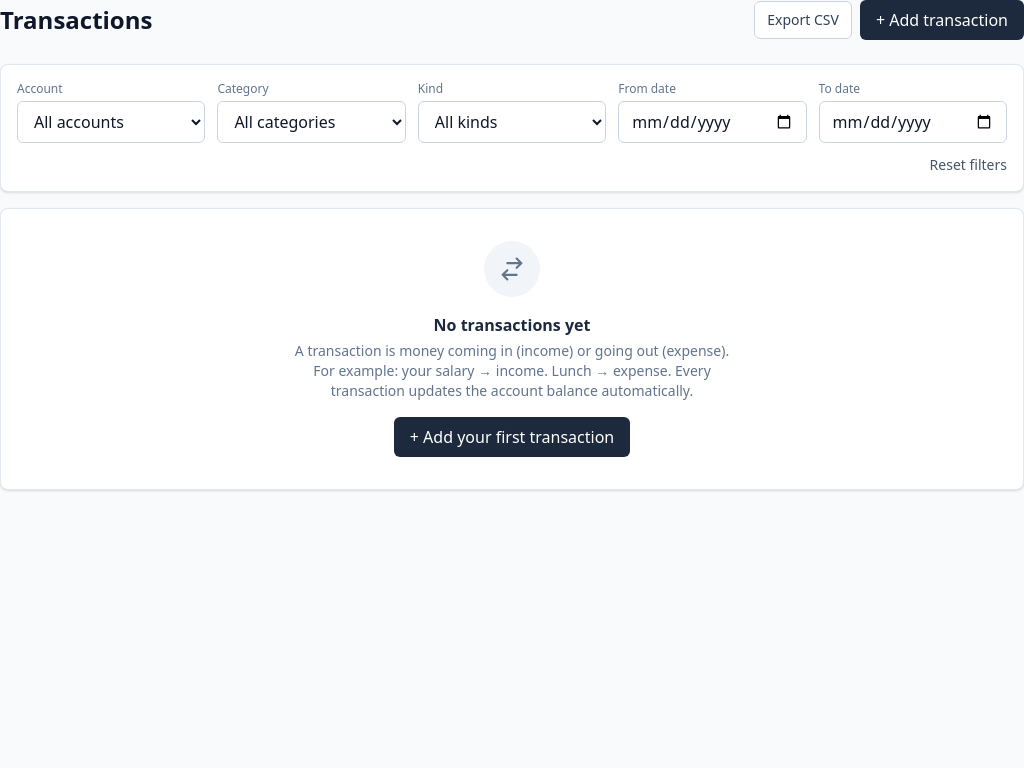
it: TransactionsPage › opens the create form and submits a new expense
This screenshot has width=1024, height=768.
Expected: the heading "No transactions yet" is shown, [434,314,590,336]
Click the button "+ Add transaction" at coordinates (942, 20), box [860,0,1023,40]
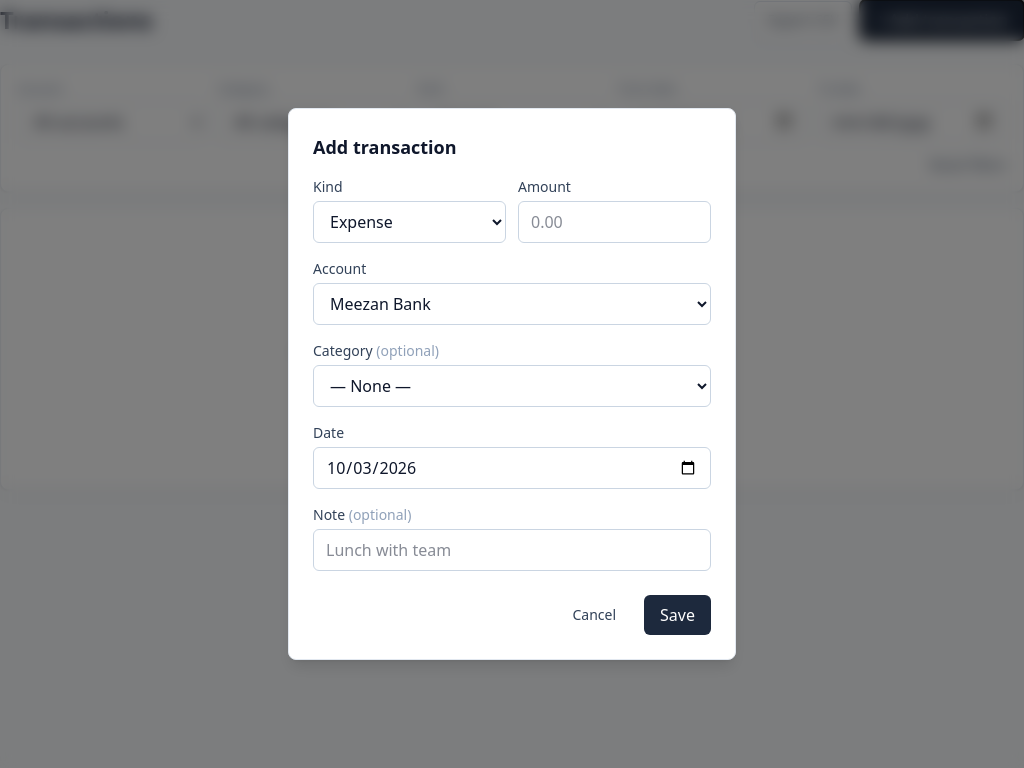
Now the number field labelled "Amount" is shown
Type "250" into the number field labelled "Amount" at coordinates (614, 222), box [518,201,711,243]
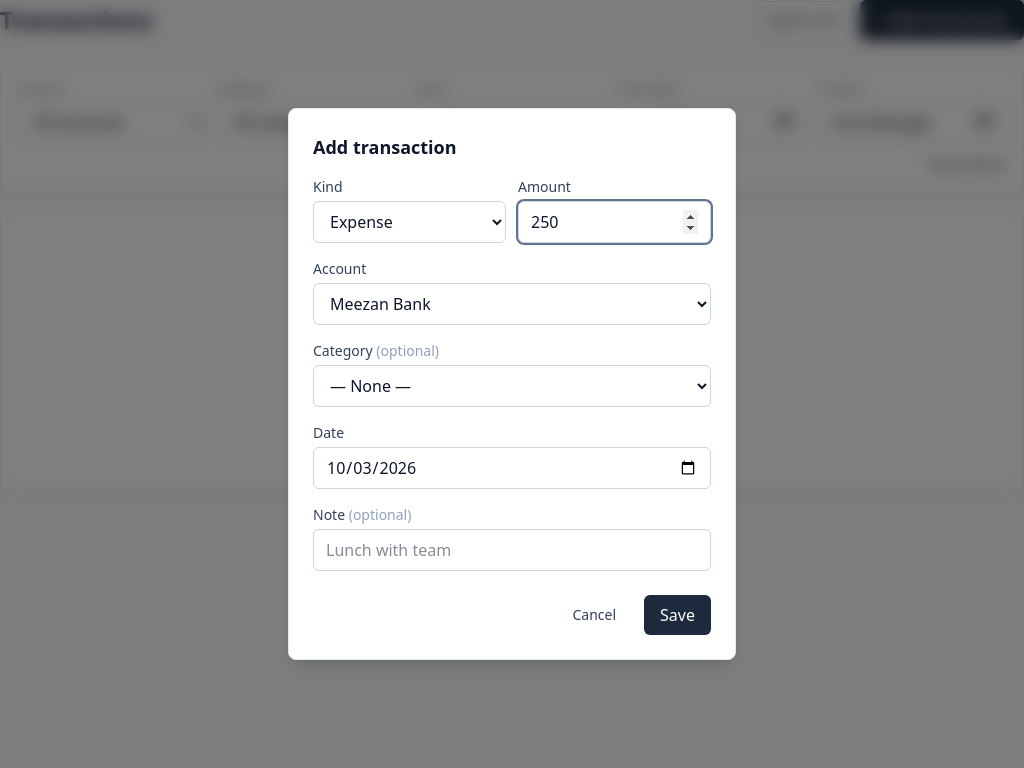
Type "Snack" into the field labelled "Note (optional)" at coordinates (512, 550), box [313,529,711,571]
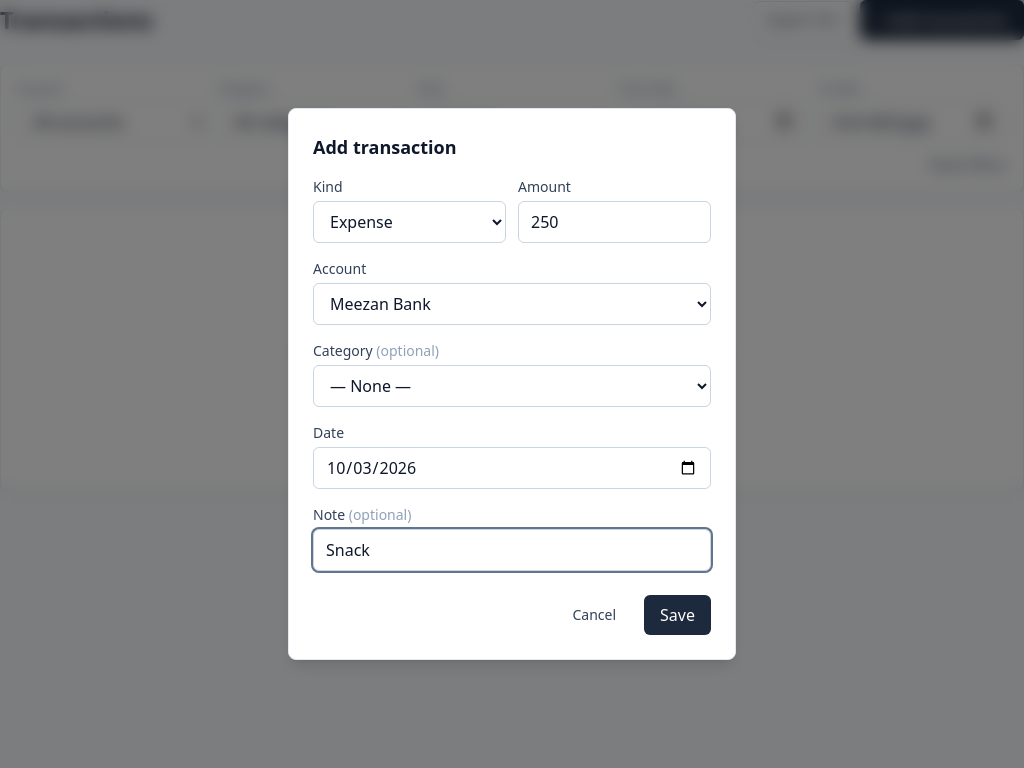
Click the button "Save" at coordinates (678, 615), box [644,595,711,635]
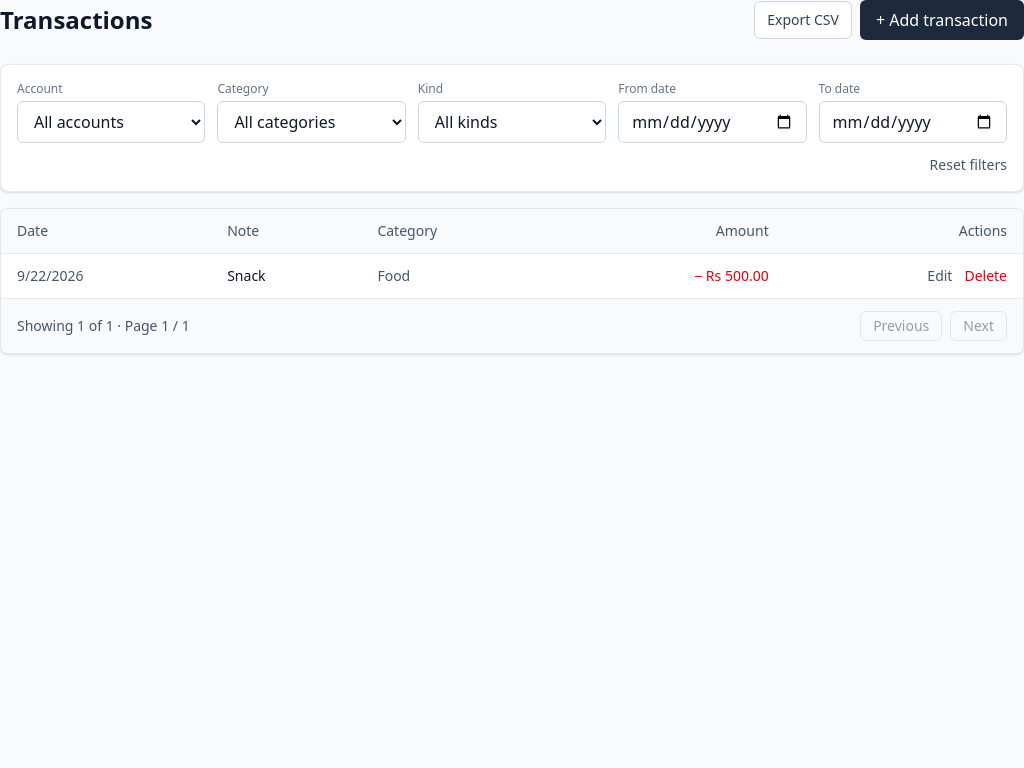
Now the text "Snack" is shown, box [227,266,266,285]
